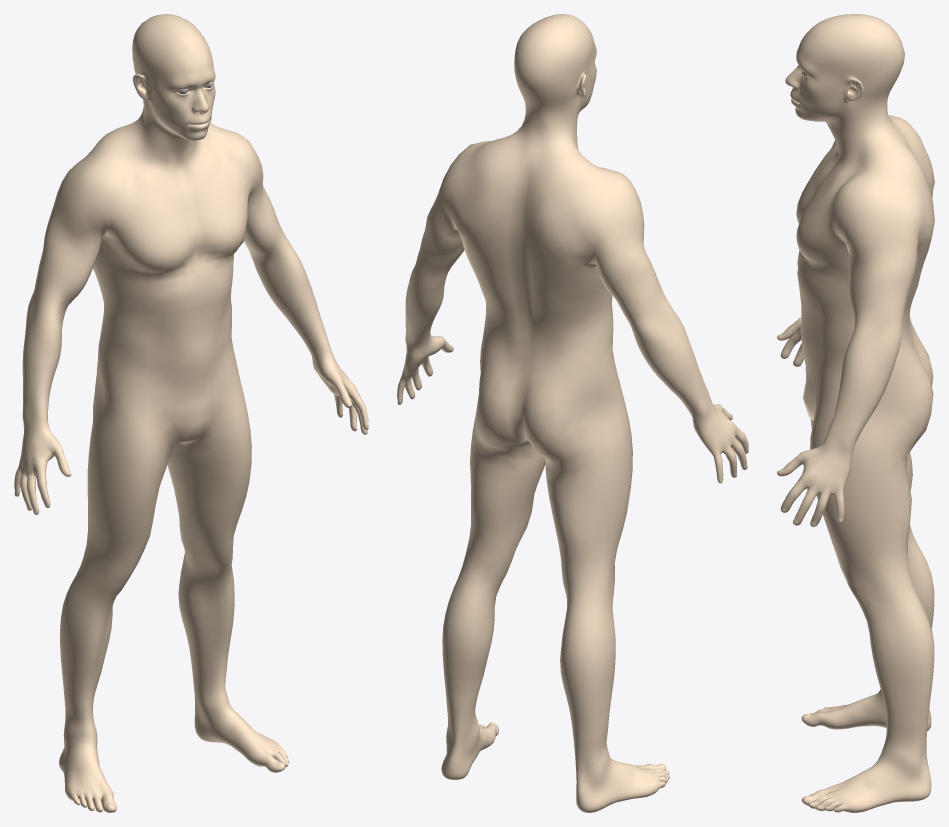
The model's file is men model 6.glb.
3 renders of one model, left to right at view 1: azimuth 30°, elevation 25°; view 2: azimuth 150°, elevation 25°; view 3: azimuth 270°, elevation 25°, orthographic.
Parts seen in each view (by area): view 1: GEO-body_male_realistic; view 2: GEO-body_male_realistic; view 3: GEO-body_male_realistic.
Part boxes in pixels (x1,y1,x2,y2): GEO-body_male_realistic: (14, 14, 368, 812); GEO-body_male_realistic: (397, 14, 748, 812); GEO-body_male_realistic: (777, 14, 934, 812).
Size of the model in its own units: 1.41 by 3.04 by 0.5804.
